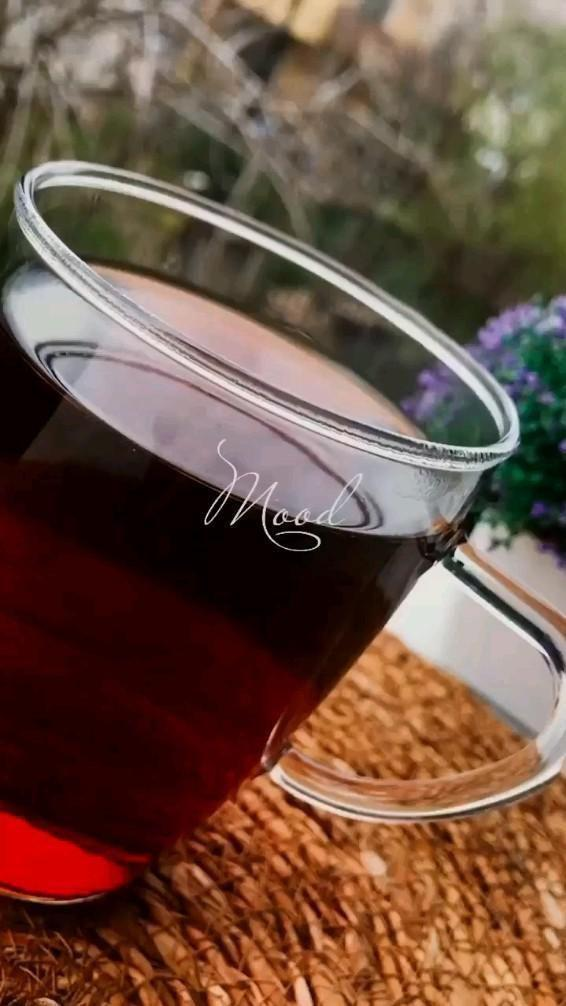glass-mug: (0, 161, 563, 898)
